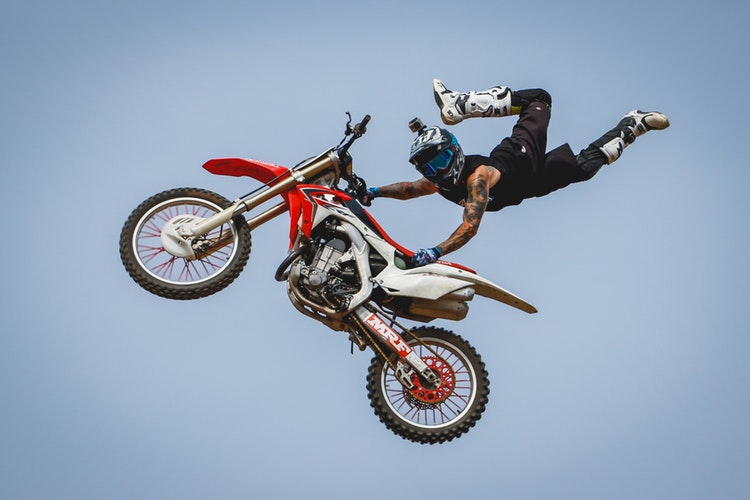helmet: (398, 123, 467, 188)
